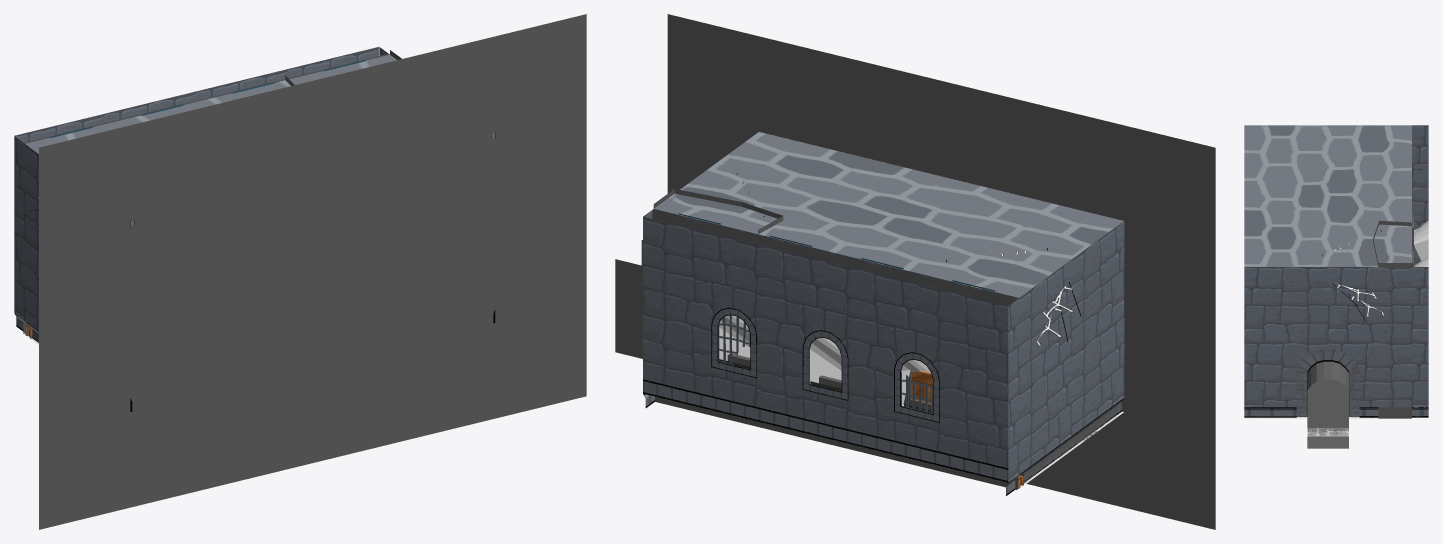
The model's file is gon_12_bake.dae.
3 views of the same model, side by side, from view 1: azimuth 30°, elevation 25°; view 2: azimuth 150°, elevation 25°; view 3: azimuth 270°, elevation 25° (orthographic). The views are drawn at different scales.
Visible parts, largest first — view 1: kuro4, polySurface810_q00029, polySurface84_q00133_part0, polySurface919_part0, polySurface7_q00138; view 2: kuro4, polySurface919_part0, polySurface7_q00138, polySurface84_q00133_part0, a_kabeushi, polySurface919_part1, polySurface919_part3, polySurface805_q00031, polySurface890_q00128, polySurface810_q00029, polySurface919_part2, polySurface84_q00024 (+1 smaller); view 3: polySurface7_q00138, polySurface84_q00134_part0, polySurface84_q00134_part1, polySurface787_q00107, polySurface84_q00133_part0, polySurface84_q00025, polySurface408_q00106_part0, polySurface402_q00030, pCube166_q00033, polySurface890_q00128, polySurface408_q00106_part1.
Boxes of the visible parts, left/top/right/bottom form: kuro4: left=39, top=14, right=586, bottom=529; polySurface810_q00029: left=130, top=133, right=495, bottom=411; polySurface84_q00133_part0: left=14, top=136, right=38, bottom=330; polySurface919_part0: left=14, top=47, right=379, bottom=142; polySurface7_q00138: left=25, top=54, right=396, bottom=153; kuro4: left=667, top=14, right=1215, bottom=529; polySurface919_part0: left=643, top=216, right=1008, bottom=468; polySurface7_q00138: left=654, top=132, right=1123, bottom=297; polySurface84_q00133_part0: left=1008, top=221, right=1124, bottom=482; a_kabeushi: left=652, top=210, right=1019, bottom=489; polySurface919_part1: left=643, top=379, right=1008, bottom=482; polySurface919_part3: left=711, top=307, right=939, bottom=422; polySurface805_q00031: left=615, top=240, right=642, bottom=358; polySurface890_q00128: left=719, top=315, right=930, bottom=405; polySurface810_q00029: left=1122, top=221, right=1133, bottom=413; polySurface919_part2: left=718, top=315, right=932, bottom=413; polySurface84_q00024: left=1020, top=402, right=1121, bottom=485; polySurface7_q00138: left=1244, top=125, right=1411, bottom=266; polySurface84_q00134_part0: left=1244, top=267, right=1428, bottom=407; polySurface84_q00134_part1: left=1244, top=349, right=1428, bottom=417; polySurface787_q00107: left=1307, top=379, right=1348, bottom=427; polySurface84_q00133_part0: left=1412, top=125, right=1428, bottom=265; polySurface84_q00025: left=1296, top=349, right=1359, bottom=416; polySurface408_q00106_part0: left=1307, top=361, right=1348, bottom=390; polySurface402_q00030: left=1307, top=427, right=1348, bottom=448; pCube166_q00033: left=1373, top=240, right=1411, bottom=418; polySurface890_q00128: left=1414, top=220, right=1428, bottom=266; polySurface408_q00106_part1: left=1307, top=428, right=1348, bottom=436.
Bounding box in the file's own units: 60 × 40 × 22.
